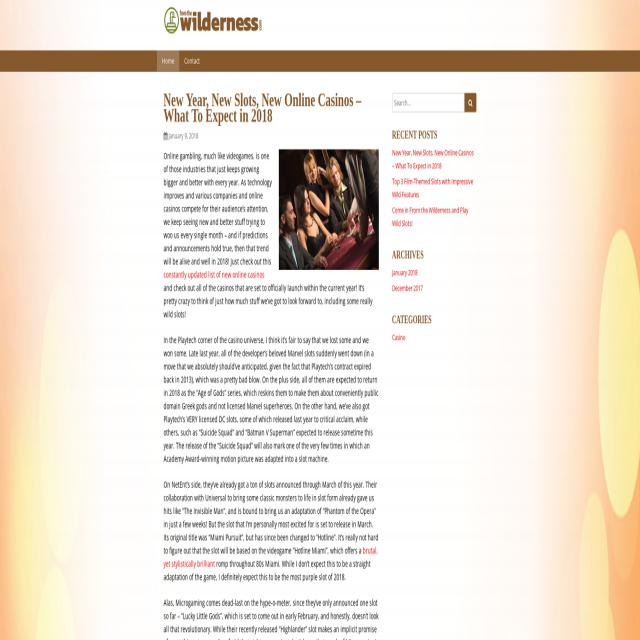button: (279, 149, 379, 270), (164, 6, 262, 35), (179, 51, 205, 71), (157, 51, 179, 71), (464, 93, 476, 112)
field: (392, 93, 464, 112)
